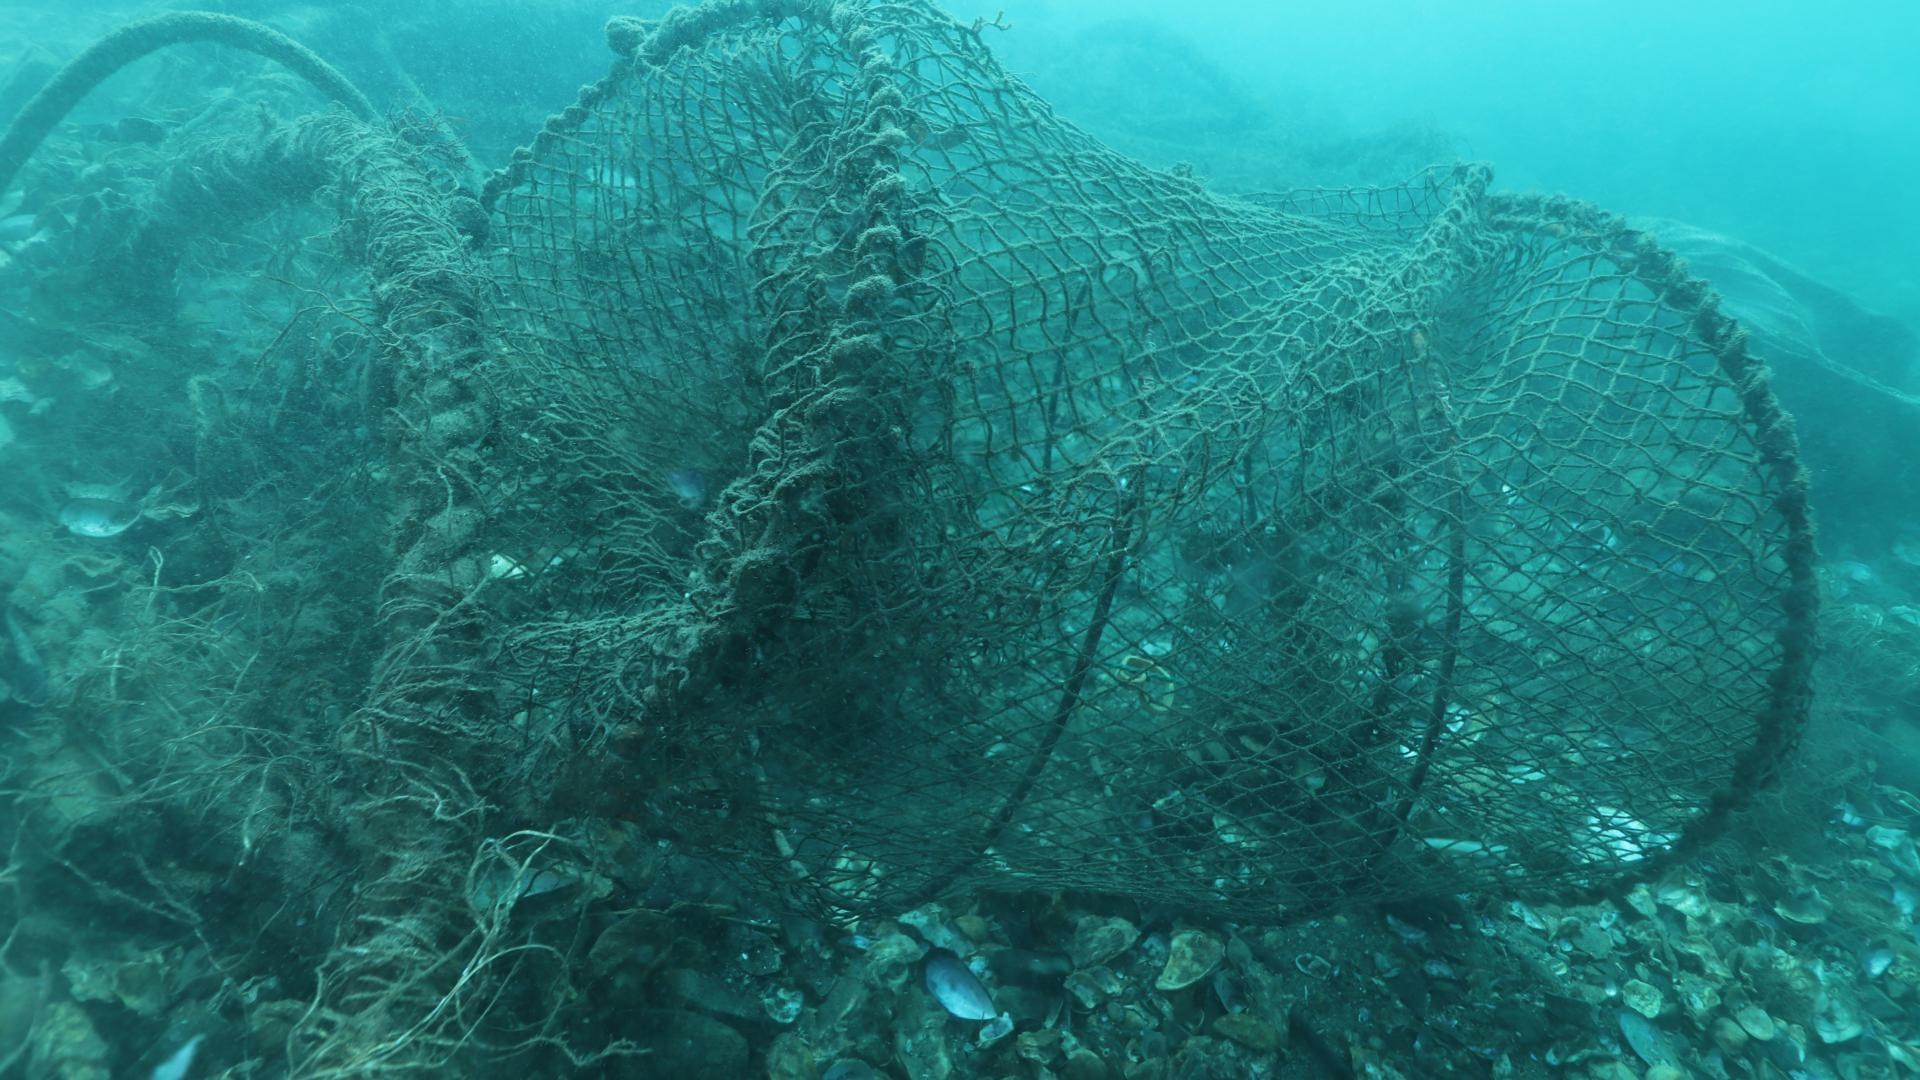spring fish trap: (487, 0, 1824, 923)
